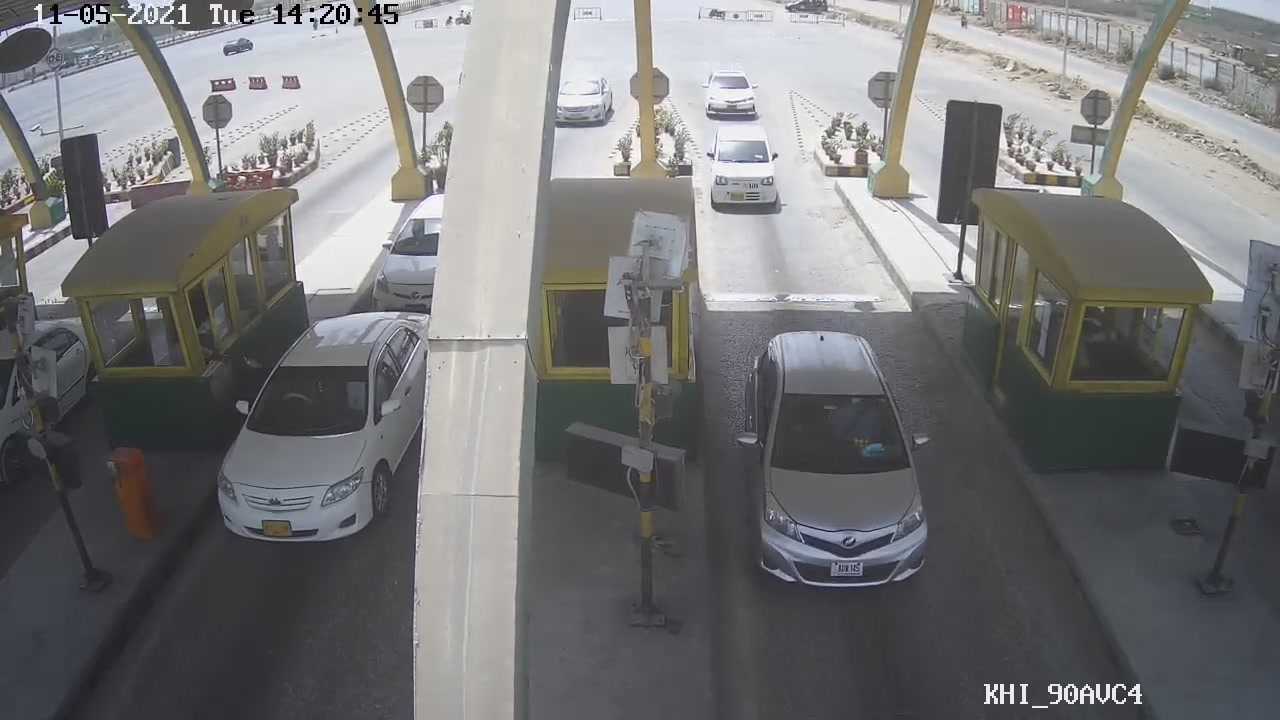F1: (735, 329, 931, 596)
